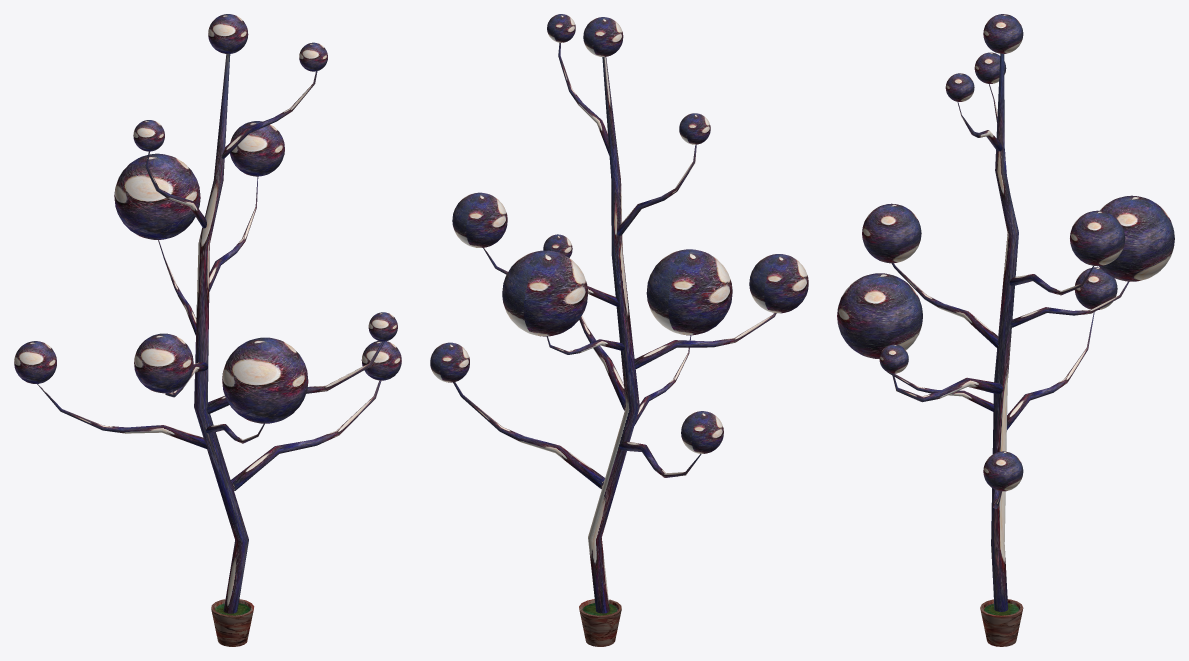
File: Tree3.FBX
3 views of the same model, side by side, from view 1: azimuth 30°, elevation 25°; view 2: azimuth 150°, elevation 25°; view 3: azimuth 270°, elevation 25° (orthographic).
Visible parts, largest first — view 1: Cylinder001; view 2: Cylinder001; view 3: Cylinder001.
Boxes of the visible parts, x1,y1,x2,y2 form: Cylinder001: [14, 14, 401, 646]; Cylinder001: [430, 14, 808, 646]; Cylinder001: [837, 14, 1174, 646].
Size of the model in its own units: 560 by 997 by 490.
3 materials, 3 textured.
